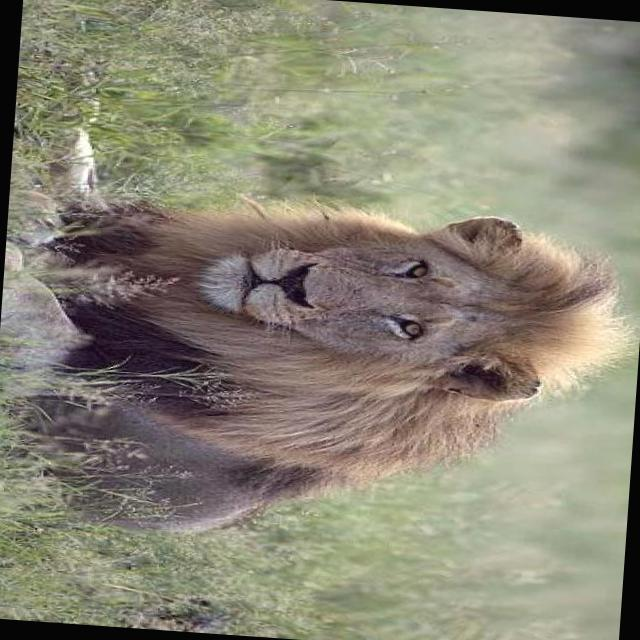lions: (15, 74, 640, 595)
